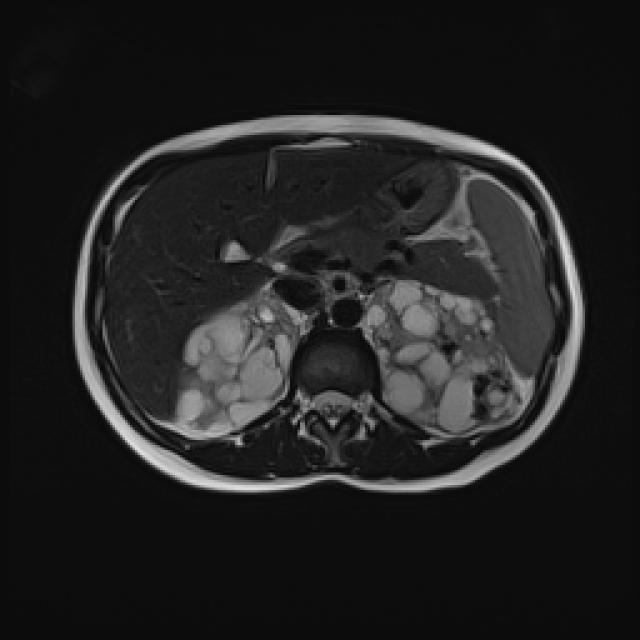sag: (177, 291, 310, 436)
sol: (366, 279, 527, 433)
